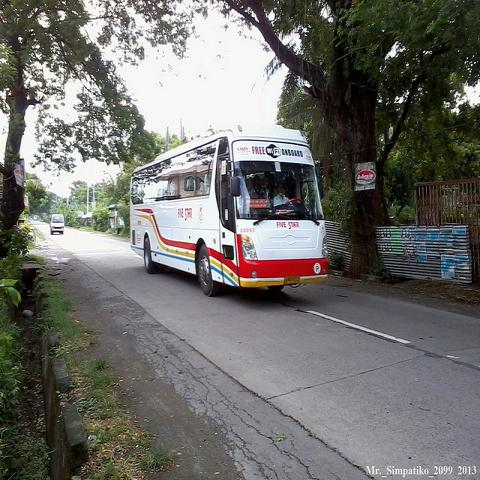bus: (132, 134, 333, 296)
truck: (49, 214, 66, 235)
